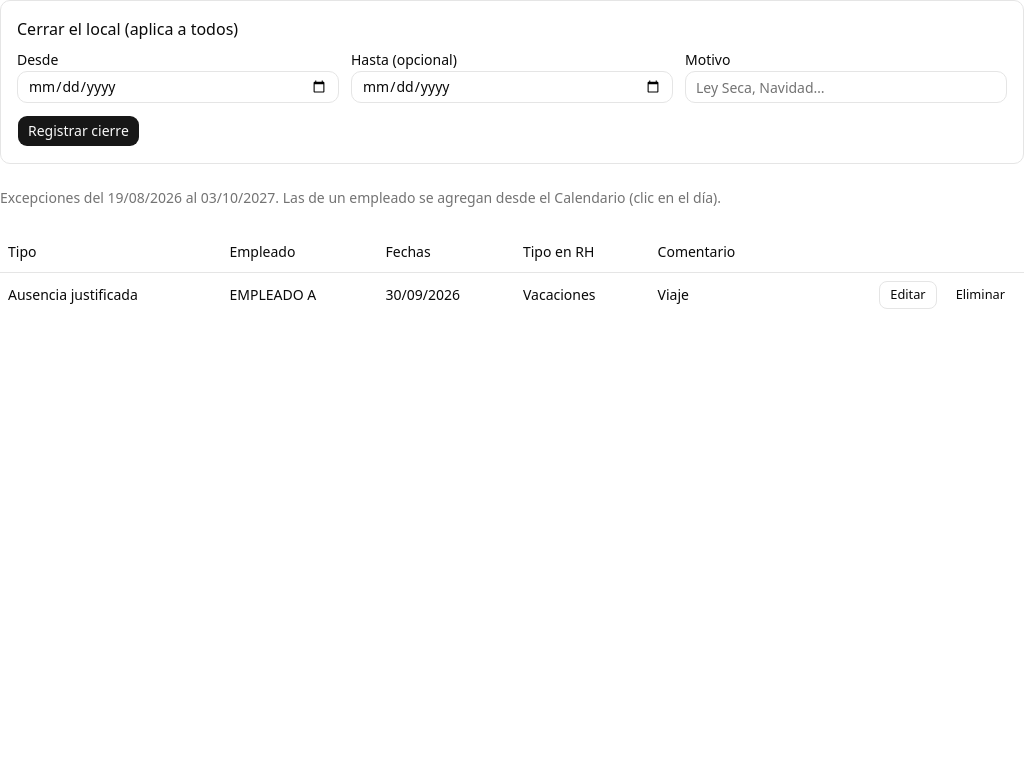
Test: ExceptionsTab › opens the exception in an edit dialog
Click the button with aria-label "Editar Ausencia justificada del 30/09/2026": (908, 294) [879,280,937,308]
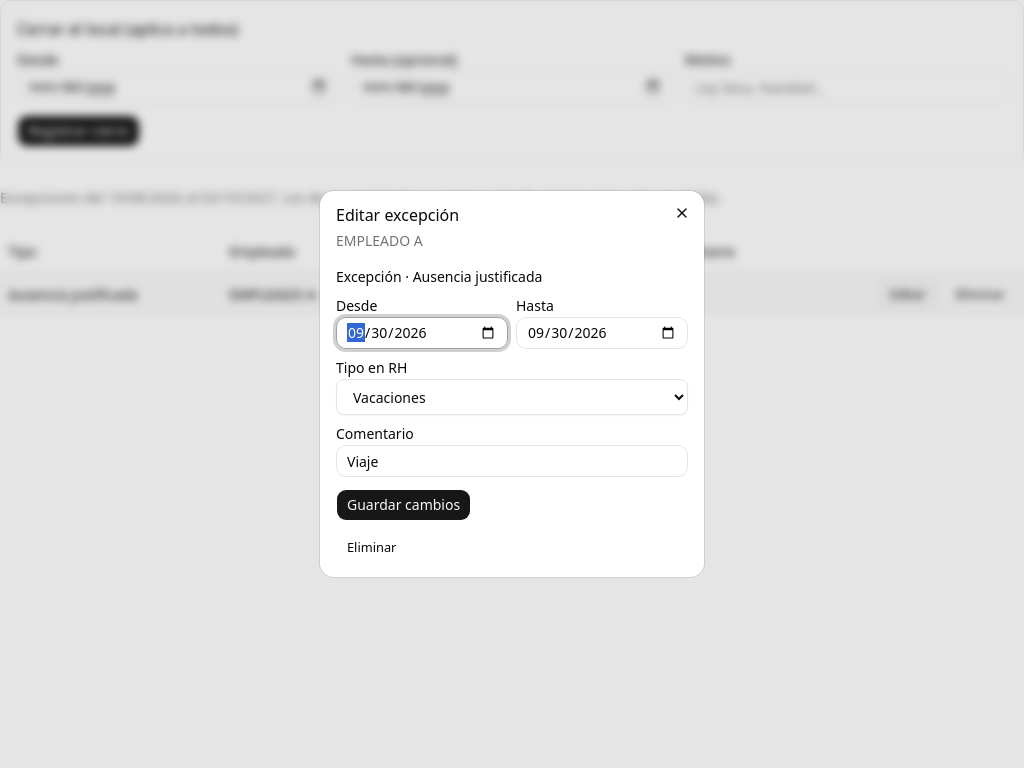
Result: the dialog "Editar excepción" shows "EMPLEADO A" at [336,231,423,250]
Result: the field labelled "Comentario" holds "Viaje" at [336,445,688,477]
